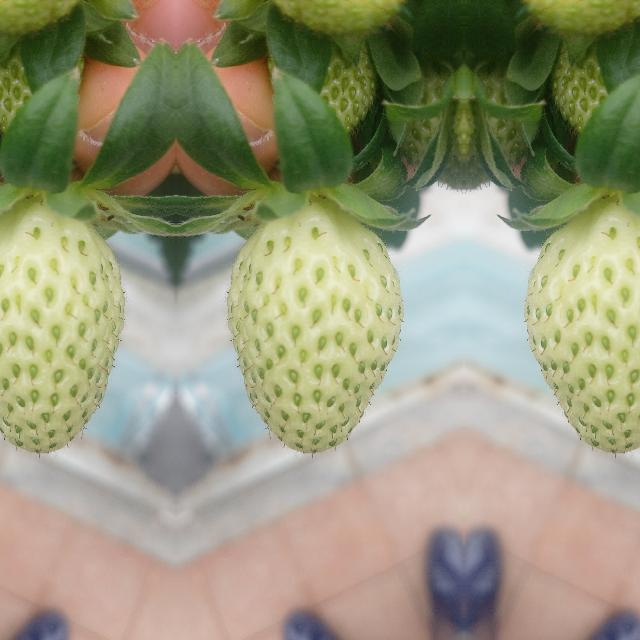Health_25: (225, 202, 402, 452), (0, 202, 124, 452), (523, 202, 640, 452)
